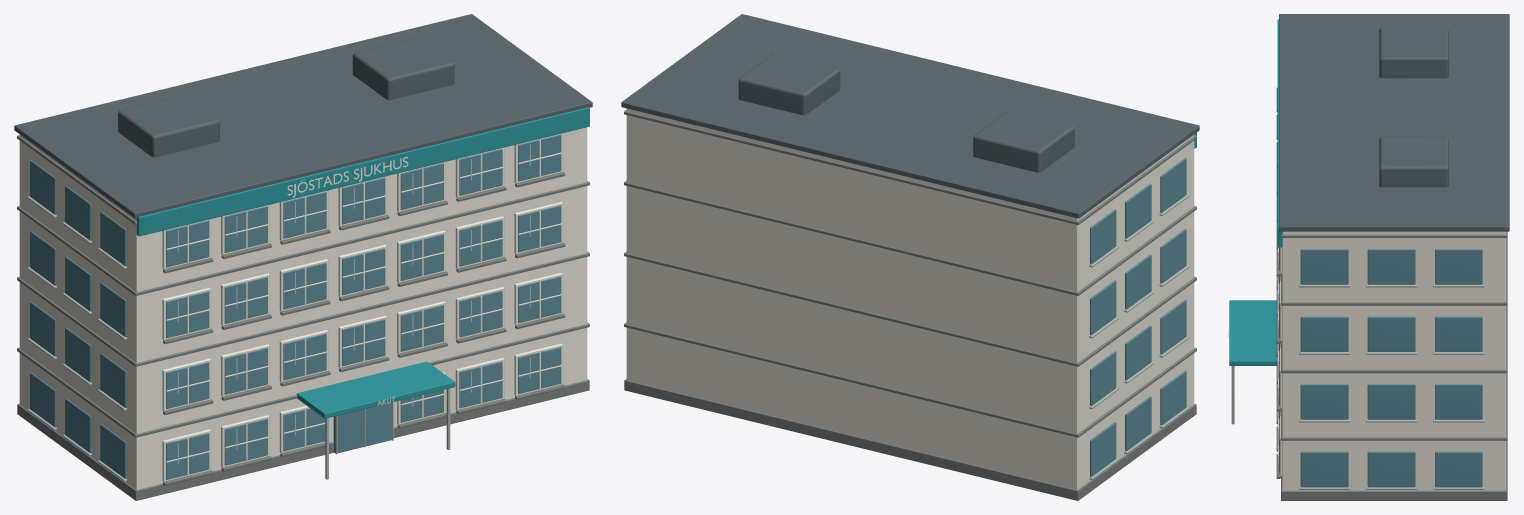
File: sjukhus.glb
3 views of the same model, side by side, from view 1: azimuth 30°, elevation 25°; view 2: azimuth 150°, elevation 25°; view 3: azimuth 270°, elevation 25° (orthographic). The views are drawn at different scales.
Parts seen in each view (by area): view 1: Facade, Parapet, Sign band, Granite plinth, Air handling plant.001, Air handling plant, Entrance canopy, Shadow line.001, Shadow line.002, Reception glazing, Shadow line, Insulated glazing.006 (+39 smaller); view 2: Facade, Parapet, Granite plinth, Air handling plant.001, Air handling plant, Shadow line.001, Shadow line.002, Shadow line.003, Shadow line, Side glazing.006, Side glazing.013, Side glazing.020 (+9 smaller); view 3: Parapet, Facade, Air handling plant, Air handling plant.001, Entrance canopy, Granite plinth, Side glazing.003, Side glazing.004, Side glazing.005, Side glazing.009, Side glazing.010, Side glazing.015 (+11 smaller).
Boxes of the visible parts, x1=… form: Facade: x1=19, y1=127, x2=587, y2=489; Parapet: x1=14, y1=14, x2=592, y2=218; Sign band: x1=136, y1=107, x2=589, y2=236; Granite plinth: x1=17, y1=379, x2=589, y2=500; Air handling plant.001: x1=352, y1=38, x2=454, y2=100; Air handling plant: x1=118, y1=95, x2=219, y2=157; Entrance canopy: x1=296, y1=361, x2=455, y2=418; Shadow line.001: x1=17, y1=251, x2=589, y2=366; Shadow line.002: x1=17, y1=181, x2=589, y2=295; Reception glazing: x1=333, y1=402, x2=391, y2=453; Shadow line: x1=17, y1=322, x2=589, y2=437; Insulated glazing.006: x1=166, y1=362, x2=209, y2=408; Facade: x1=626, y1=108, x2=1194, y2=489; Parapet: x1=621, y1=14, x2=1199, y2=218; Granite plinth: x1=624, y1=379, x2=1196, y2=500; Air handling plant.001: x1=738, y1=53, x2=840, y2=115; Air handling plant: x1=973, y1=110, x2=1074, y2=172; Shadow line.001: x1=624, y1=251, x2=1196, y2=366; Shadow line.002: x1=624, y1=181, x2=1196, y2=295; Shadow line.003: x1=624, y1=110, x2=1196, y2=224; Shadow line: x1=624, y1=322, x2=1196, y2=437; Side glazing.006: x1=1160, y1=299, x2=1186, y2=354; Side glazing.013: x1=1125, y1=254, x2=1151, y2=309; Side glazing.020: x1=1090, y1=209, x2=1116, y2=264; Parapet: x1=1279, y1=14, x2=1509, y2=231; Facade: x1=1282, y1=231, x2=1505, y2=490; Air handling plant: x1=1379, y1=27, x2=1448, y2=78; Air handling plant.001: x1=1379, y1=136, x2=1448, y2=187; Entrance canopy: x1=1229, y1=300, x2=1277, y2=365; Granite plinth: x1=1281, y1=440, x2=1507, y2=500; Side glazing.003: x1=1300, y1=451, x2=1348, y2=487; Side glazing.004: x1=1367, y1=451, x2=1415, y2=487; Side glazing.005: x1=1435, y1=451, x2=1482, y2=487; Side glazing.009: x1=1300, y1=384, x2=1348, y2=419; Side glazing.010: x1=1367, y1=384, x2=1415, y2=419; Side glazing.015: x1=1300, y1=316, x2=1348, y2=351.
Bounding box in the file's own units: 20.31 × 13.13 × 11.31.
